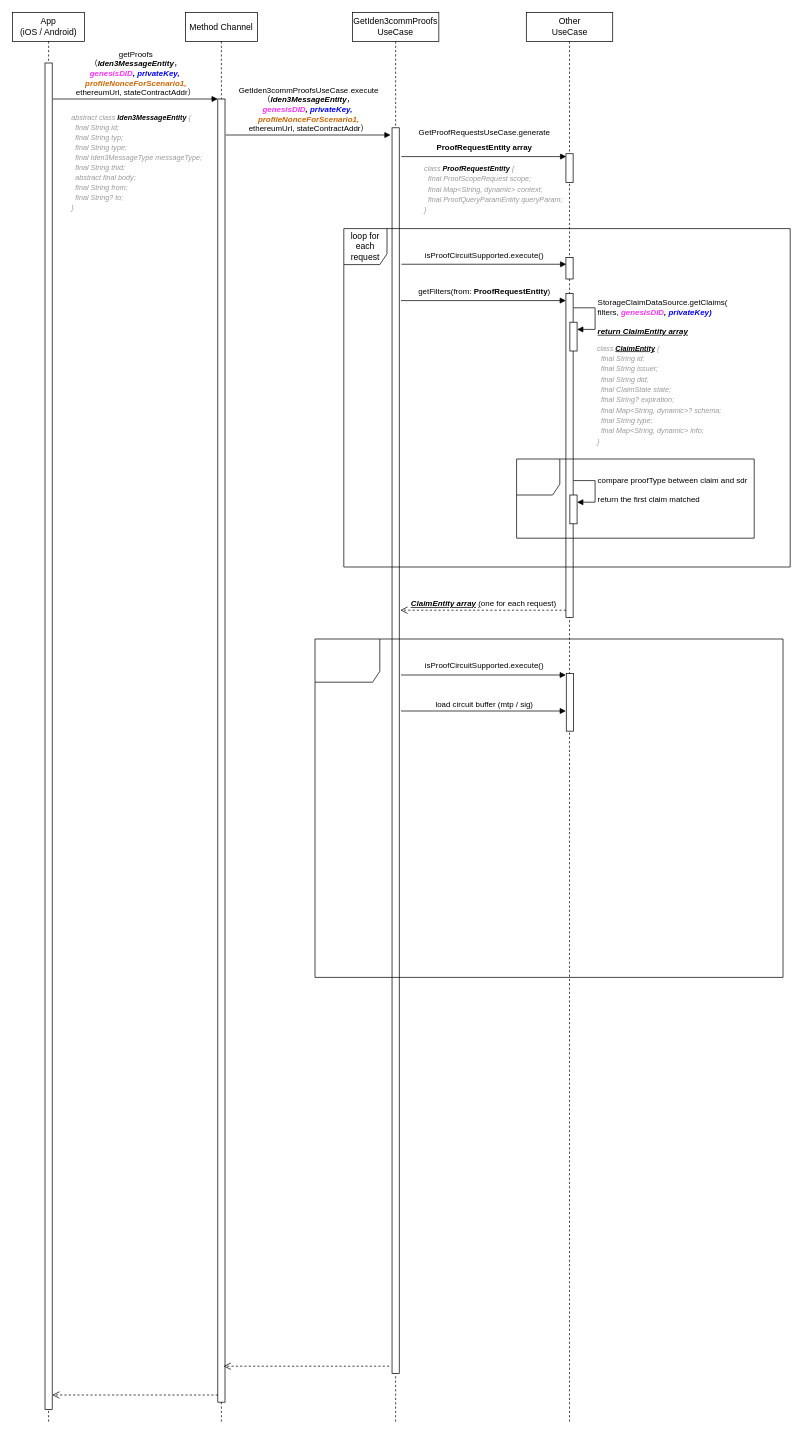
Image size: 803x1436. Some labels were removed from this diagram. Each missing label, with the centre of its shape:
"loop for each claim" belongs at (x=635, y=498).
"loop for each request / claim" belongs at (x=548, y=807).
